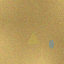person: (48, 39, 53, 48)
structure: (26, 32, 39, 44)
